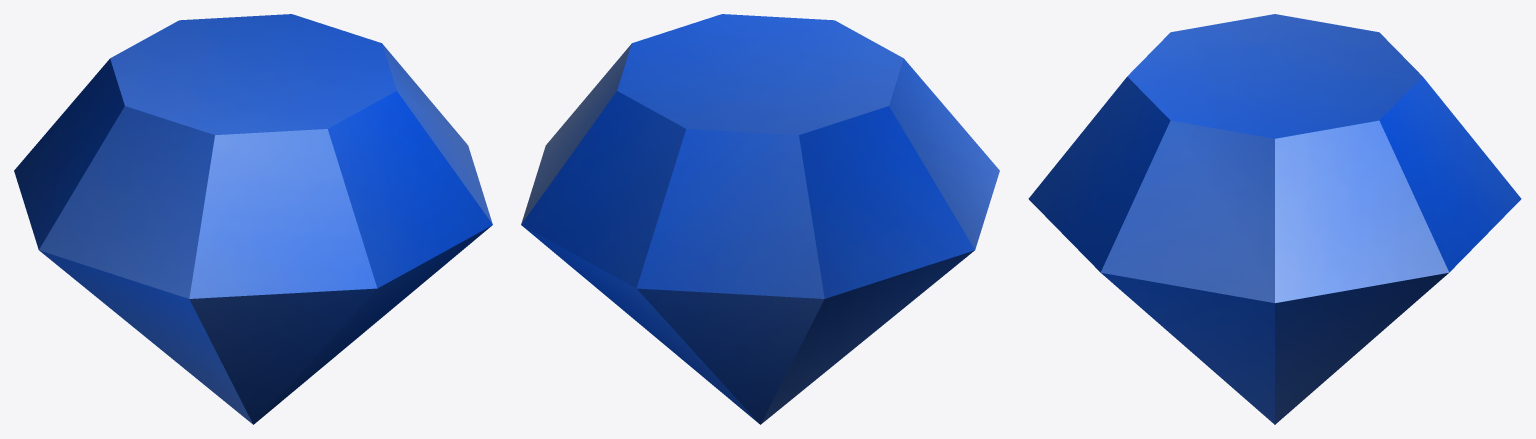
Rendered from Raw_V3.fbx.
3 renders of one model, left to right at view 1: azimuth 30°, elevation 25°; view 2: azimuth 150°, elevation 25°; view 3: azimuth 270°, elevation 25°, orthographic.
Visible parts, largest first — view 1: DiamondCrystal; view 2: DiamondCrystal; view 3: DiamondCrystal.
Boxes of the visible parts, x1,y1,x2,y2 form: DiamondCrystal: (14,14,492,424); DiamondCrystal: (521,14,999,424); DiamondCrystal: (1028,14,1521,424).
Bounding box in the file's own units: 52.16 × 40.67 × 52.16.
